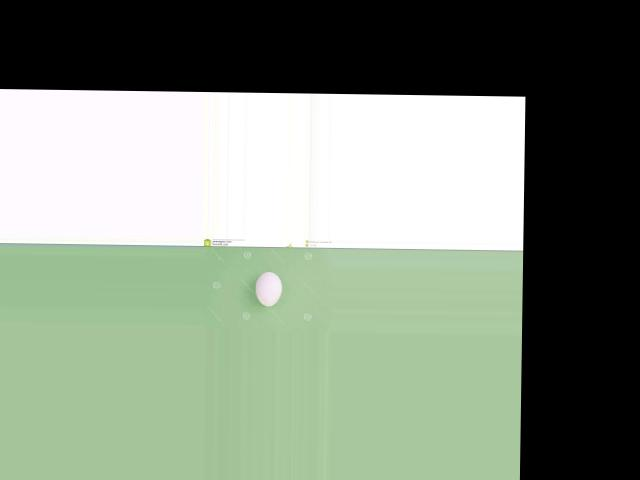egg: (255, 271, 282, 305)
